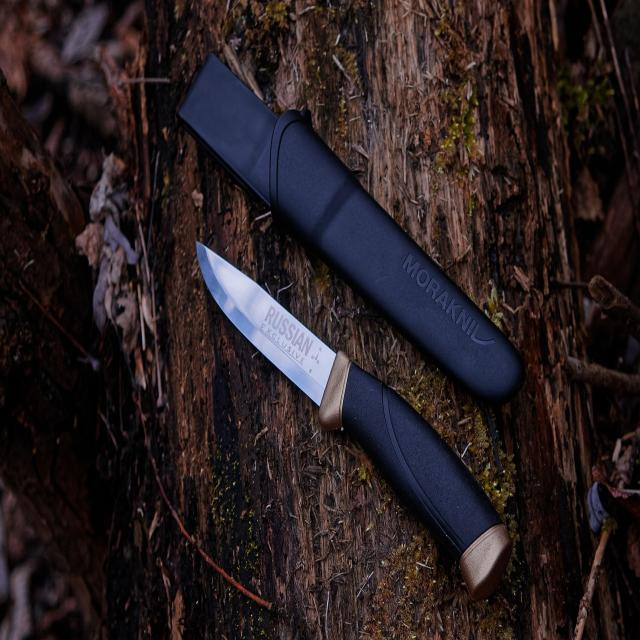Knife: (196, 242, 512, 599)
